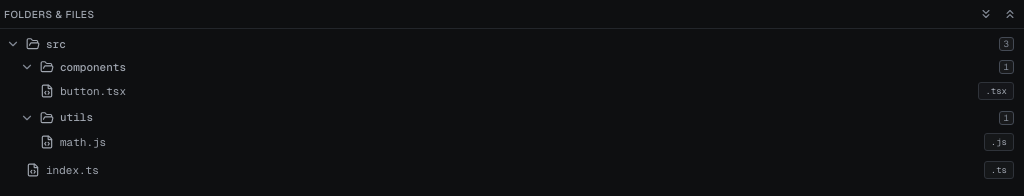
it: FolderTree component › expands and collapses folders when clicking folder rows
The image size is (1024, 196).
Expected: the button with aria-label "File src/components/button.tsx" is shown, x1=34 y1=78 x2=1020 y2=104
# Click to collapse
What coordinates should you click on to do the following:
click the button with aria-label "Folder components"
I would click on:
 (93, 67)
Its box is x1=0 y1=56 x2=1020 y2=78.
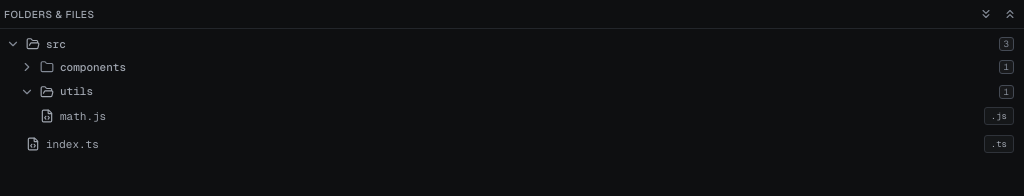
Now the button with aria-label "Folder components" is collapsed
# Click to expand again
What coordinates should you click on to do the following:
click the button with aria-label "Folder components"
I would click on:
 (93, 67)
Its box is x1=0 y1=56 x2=1020 y2=78.
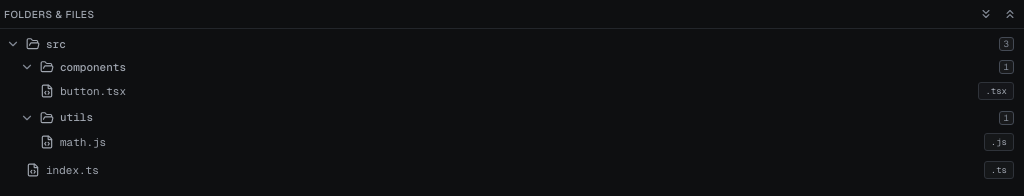
Now the button with aria-label "Folder components" is expanded, box x1=0 y1=56 x2=1020 y2=78
Now the button with aria-label "File src/components/button.tsx" is shown, box x1=34 y1=78 x2=1020 y2=104
